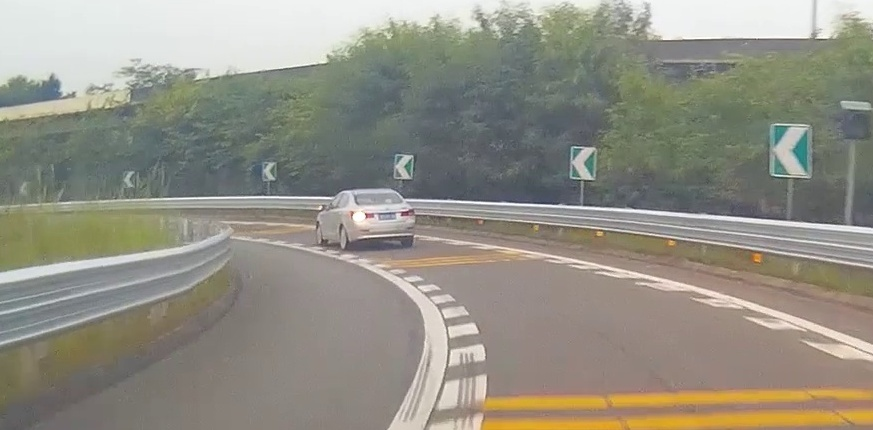L_light: (350, 211, 375, 220)
R_light: (400, 208, 416, 216)
T_light: (375, 193, 384, 194)
day-left: (346, 188, 416, 256)
